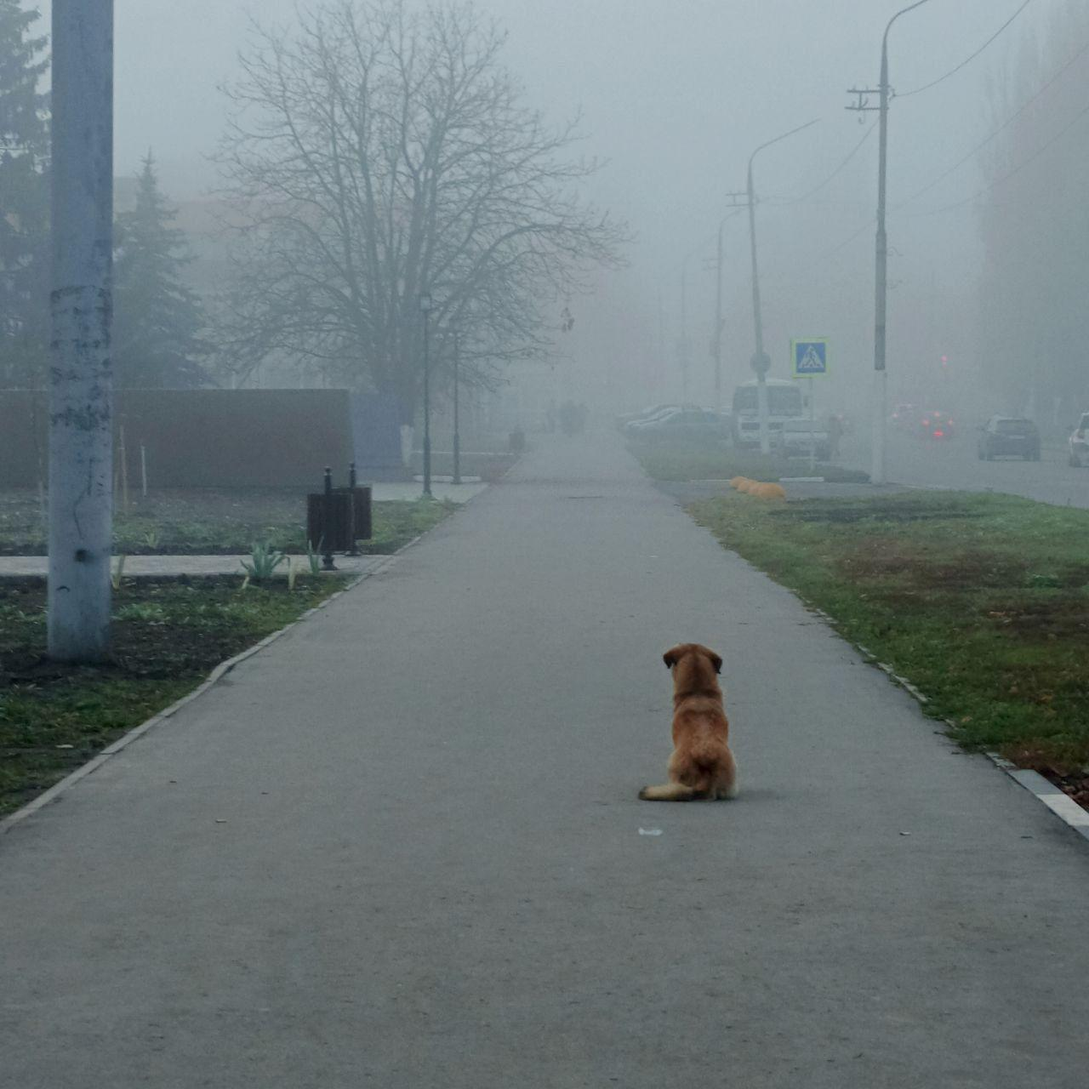adult_dog: (636, 641, 737, 803)
